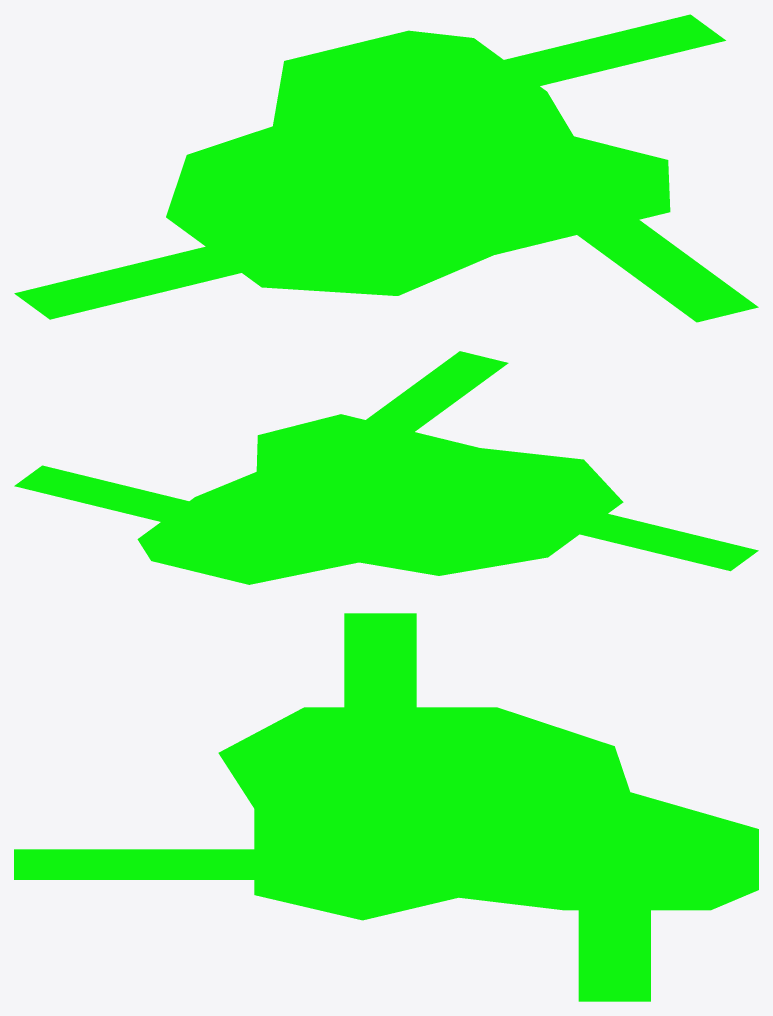
File: s01b_td1-floor.glb
3 views of the same model, one above another, from view 1: azimuth 30°, elevation 25°; view 2: azimuth 150°, elevation 25°; view 3: azimuth 270°, elevation 25° (orthographic). The views are drawn at different scales.
Parts seen in each view (by area): view 1: collision_floor-colonly; view 2: collision_floor-colonly; view 3: collision_floor-colonly.
Part boxes in pixels (x1=…): collision_floor-colonly: x1=14, y1=14, x2=758, y2=322; collision_floor-colonly: x1=14, y1=351, x2=758, y2=584; collision_floor-colonly: x1=14, y1=613, x2=758, y2=1001.
Bounding box in the file's own units: 76.5 × 0 × 62.
